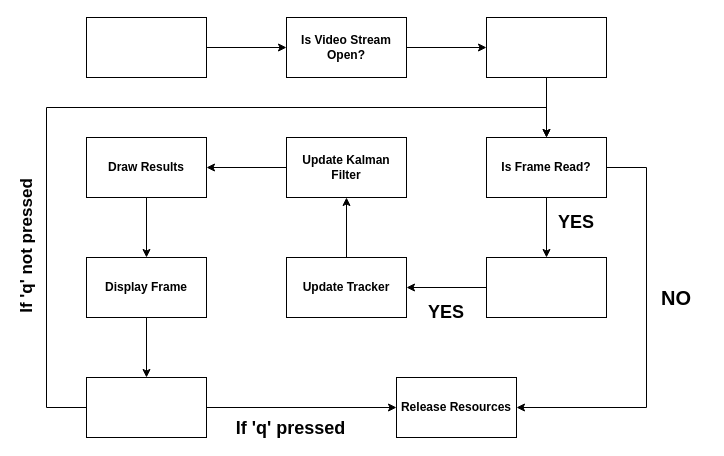
This 724x456 diagram has some shape labels left out. Each missing label, with the box of its shape:
Check Exit Condition: (86, 376, 206, 438)
Initialize Tracker: (86, 16, 206, 78)
Read Video Frame: (486, 16, 606, 78)
Selected Point?: (486, 256, 606, 318)
